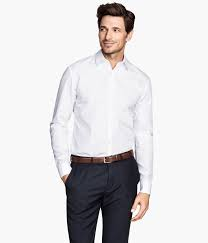F_belt: (69, 147, 136, 168)
F_dress pants: (63, 154, 143, 243)
F_shirt: (48, 46, 158, 195)
